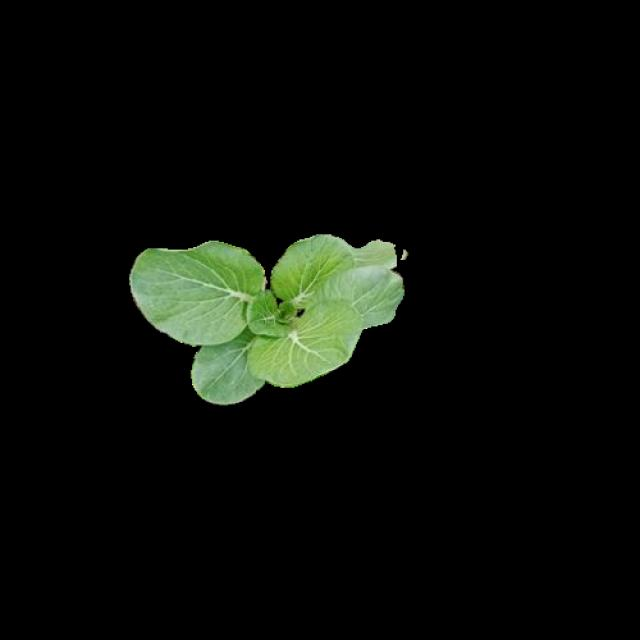healthy: (141, 248, 403, 399)
not-mature: (133, 238, 406, 402)
